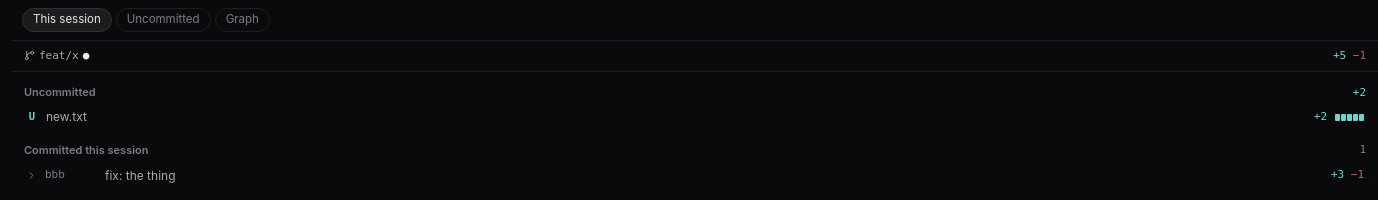
Changes panel › the graph names branches and marks where the session started
This screenshot has width=1378, height=200.
Click the button "Graph" at (242, 20), box [215,8,270,32]
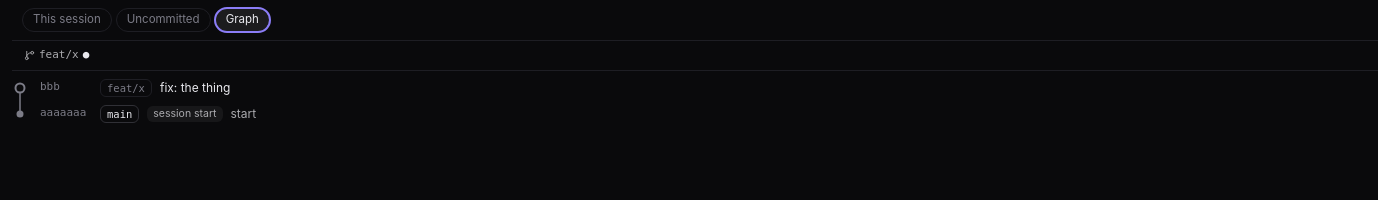
Result: the text "session start" is shown at [147,106,222,122]
Result: the text "main" is shown at [100,104,139,122]
